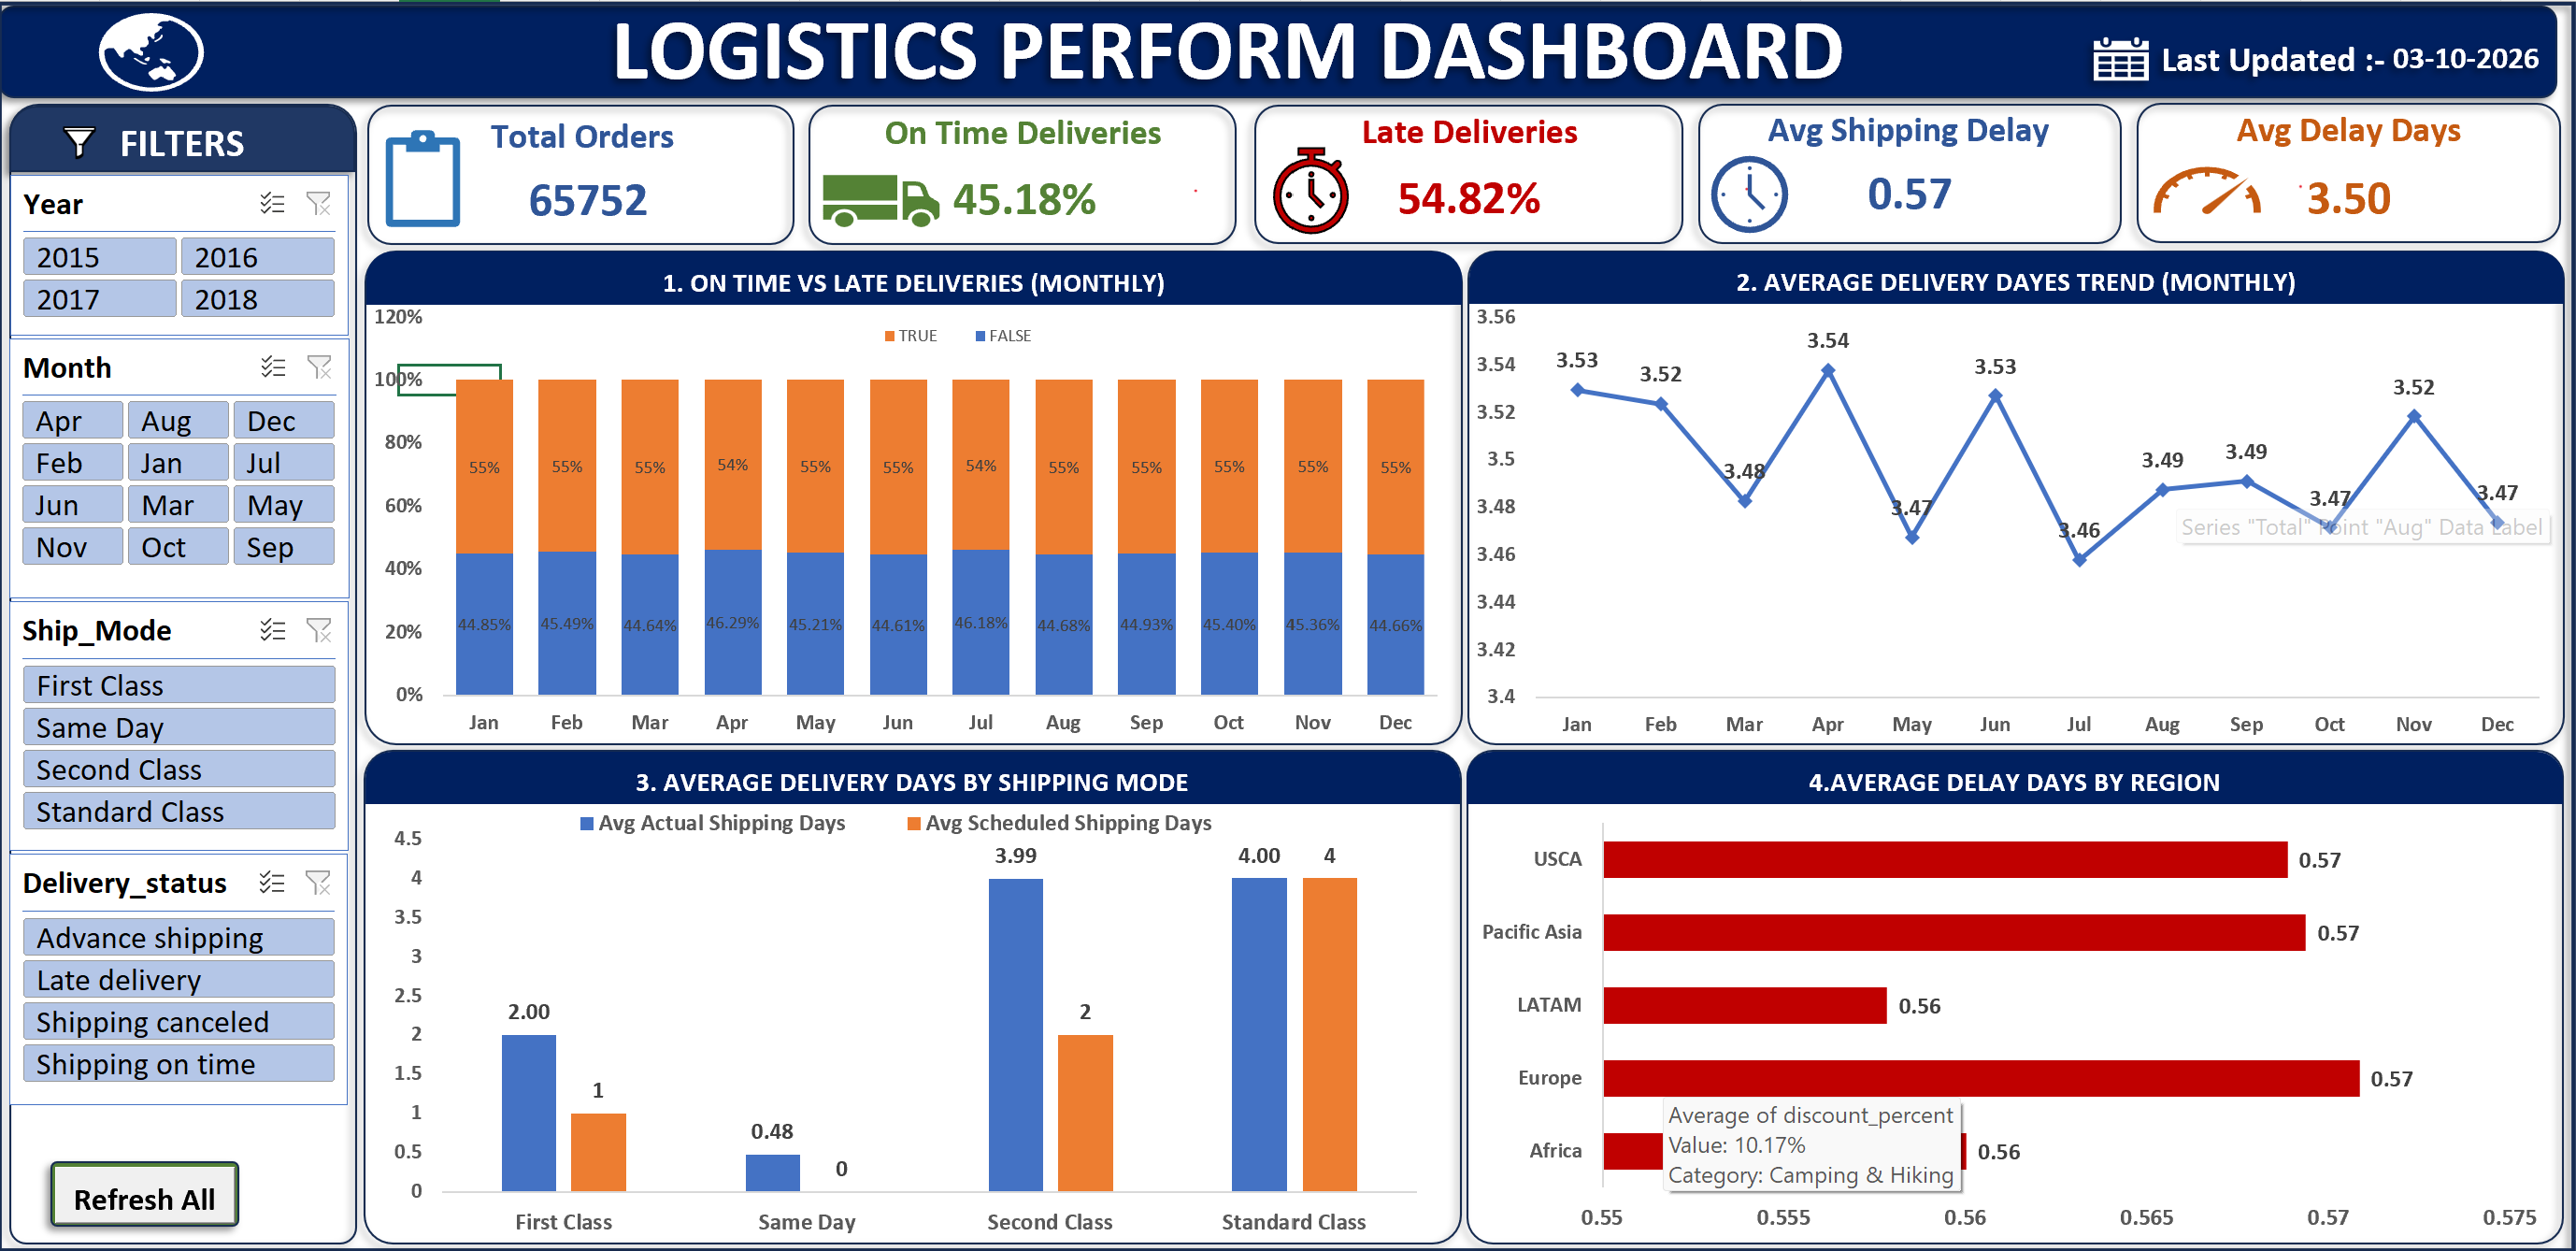

The page's visual inventory and layout, read from the dashboard file:
{"tool":"powerbi","page":{"name":"Supply Chain & Logistics Operations","canvas":[1920,1080],"ordinal":3},"visuals":[{"type":"shape","box":[0,0,1919.3,93],"z":0},{"type":"textbox","title":"Supply Chain & Logistics Operations","box":[104.1,0,783.9,112.5],"z":1000},{"type":"slicer","fields":{"Values":["dim_date.year_number"]},"box":[1.2,93.5,370.2,80],"z":2000},{"type":"slicer","fields":{"Values":["dim_order_locations.region"]},"box":[385.5,92.7,374.5,80],"z":3000},{"type":"slicer","fields":{"Values":["dim_order_locations.market"]},"box":[772.8,92.8,374.4,80],"z":4000},{"type":"slicer","fields":{"Values":["fact_order_items.shipping_mode"]},"box":[1163.6,92.1,366.8,80.2],"z":5000},{"type":"slicer","fields":{"Values":["fact_order_items.delivery_status"]},"box":[1549.2,92.1,370,80],"z":6000},{"type":"cardVisual","fields":{"Data":["_Measures.On Time Delivery %"]},"box":[1.7,180,370,126.7],"z":7000},{"type":"cardVisual","fields":{"Data":["_Measures.Avg Shipping Delay"]},"box":[389,180,370,126.7],"z":8000},{"type":"cardVisual","fields":{"Data":["_Measures.AVG actual Shipping Days"]},"box":[776.3,180,370,126.7],"z":9000},{"type":"lineChart","title":"Shipping Delay Trend","fields":{"Y":["_Measures.Avg Shipping Delay"],"Category":["dim_date.calendar_date.Variation.Date Hierarchy.Year","dim_date.calendar_date.Variation.Date Hierarchy.Month"]},"box":[0,312.5,1148.2,375],"z":10000},{"type":"clusteredColumnChart","title":"Actual vs Scheduled Shipping Days","fields":{"Y":["_Measures.AVG actual Shipping Days","_Measures.Avg Scheduled Shipping Days"],"Category":["fact_order_items.shipping_mode"]},"box":[0,692.9,767,385.7],"z":11000},{"type":"cardVisual","fields":{"Data":["_Measures.Late Delivery %"]},"box":[1160.7,180,370,126.7],"z":12000},{"type":"cardVisual","fields":{"Data":["_Measures.Advance Shipping %"]},"box":[1550,180,369.3,127.1],"z":13000},{"type":"barChart","title":"Delivery Performance by Shipping Mode","fields":{"Series":["fact_order_items.delivery_status"],"Y":["_Measures.Total Orders"],"Category":["fact_order_items.shipping_mode"]},"box":[1153.6,312.5,760.7,375],"z":14000},{"type":"pivotTable","title":"Market Logistics Performance","fields":{"Rows":["dim_order_locations.market"],"Columns":["fact_order_items.shipping_mode"],"Values":["_Measures.On Time Delivery %","_Measures.Avg Shipping Delay","_Measures.AVG actual Shipping Days"]},"box":[773.2,692.9,1141,387],"z":15000},{"type":"image","box":[0,11.9,85.3,70],"z":16000},{"type":"textbox","box":[1607.2,6.8,298.6,80.2],"z":17000},{"type":"image","box":[1480.9,6.8,136.5,80.2],"z":18000}]}

Visuals, with their boxes on the page's 1920x1080 design canvas (x1, y1, x2, y2). These are canvas units, not pixel positions in the 2576x1251 screenshot, which may show the page scaled, cropped or inside an application window:
shape: bbox(0, 0, 1919, 93)
"Supply Chain & Logistics Operations" textbox: bbox(104, 0, 888, 112)
slicer - dim_date.year_number: bbox(1, 94, 371, 174)
slicer - dim_order_locations.region: bbox(386, 93, 760, 173)
slicer - dim_order_locations.market: bbox(773, 93, 1147, 173)
slicer - fact_order_items.shipping_mode: bbox(1164, 92, 1530, 172)
slicer - fact_order_items.delivery_status: bbox(1549, 92, 1919, 172)
cardVisual - _Measures.On Time Delivery %: bbox(2, 180, 372, 307)
cardVisual - _Measures.Avg Shipping Delay: bbox(389, 180, 759, 307)
cardVisual - _Measures.AVG actual Shipping Days: bbox(776, 180, 1146, 307)
"Shipping Delay Trend" lineChart: bbox(0, 312, 1148, 688)
"Actual vs Scheduled Shipping Days" clusteredColumnChart: bbox(0, 693, 767, 1079)
cardVisual - _Measures.Late Delivery %: bbox(1161, 180, 1531, 307)
cardVisual - _Measures.Advance Shipping %: bbox(1550, 180, 1919, 307)
"Delivery Performance by Shipping Mode" barChart: bbox(1154, 312, 1914, 688)
"Market Logistics Performance" pivotTable: bbox(773, 693, 1914, 1080)
image: bbox(0, 12, 85, 82)
textbox: bbox(1607, 7, 1906, 87)
image: bbox(1481, 7, 1617, 87)
